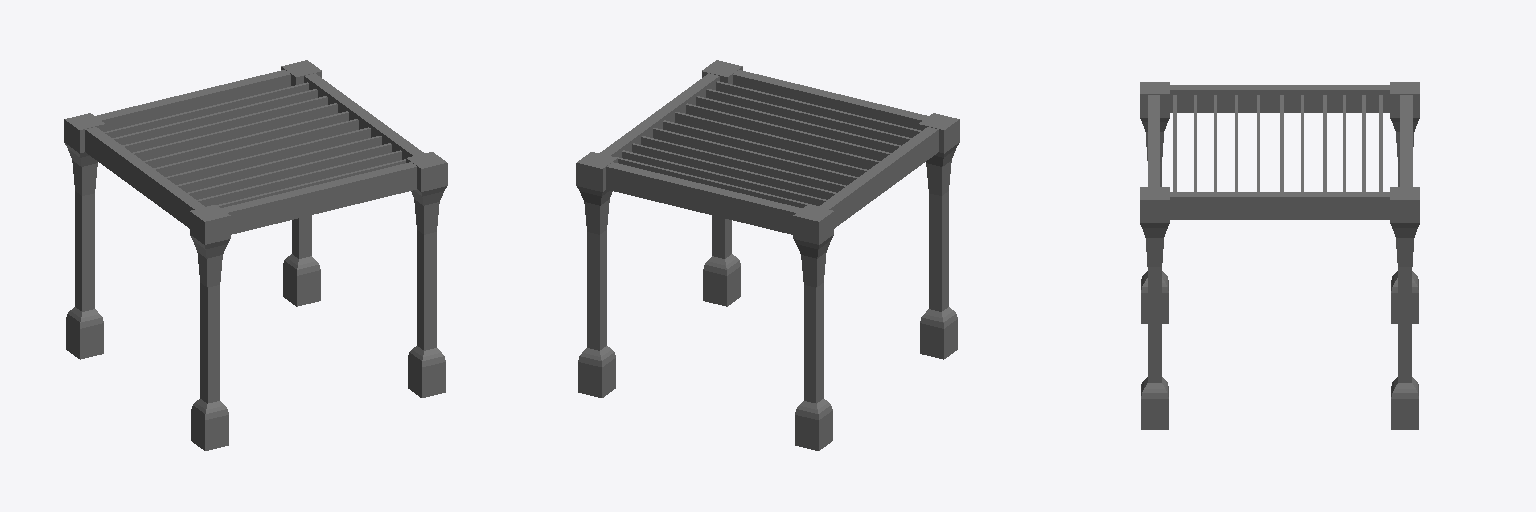
The model's file is terrace.obj.
3 renders of one model, left to right at view 1: azimuth 30°, elevation 25°; view 2: azimuth 150°, elevation 25°; view 3: azimuth 270°, elevation 25°, orthographic.
Parts seen in each view (by area): view 1: pCube21; view 2: pCube21; view 3: pCube21.
Part boxes in pixels (left/top/right/bottom): pCube21: left=64, top=60, right=447, bottom=450; pCube21: left=576, top=60, right=959, bottom=450; pCube21: left=1140, top=82, right=1419, bottom=429.
Bounding box in the file's own units: 1.12 × 1.01 × 1.12.